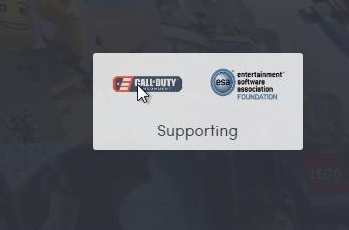cursor: (135, 82, 149, 103)
